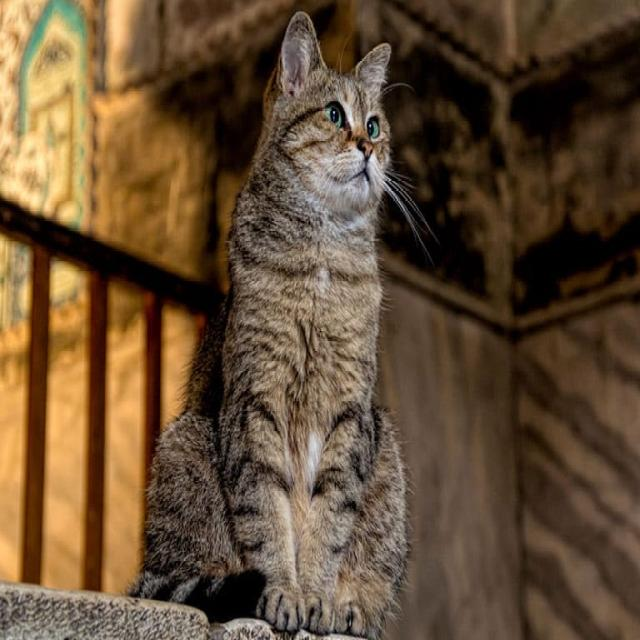cat: (131, 12, 408, 636)
